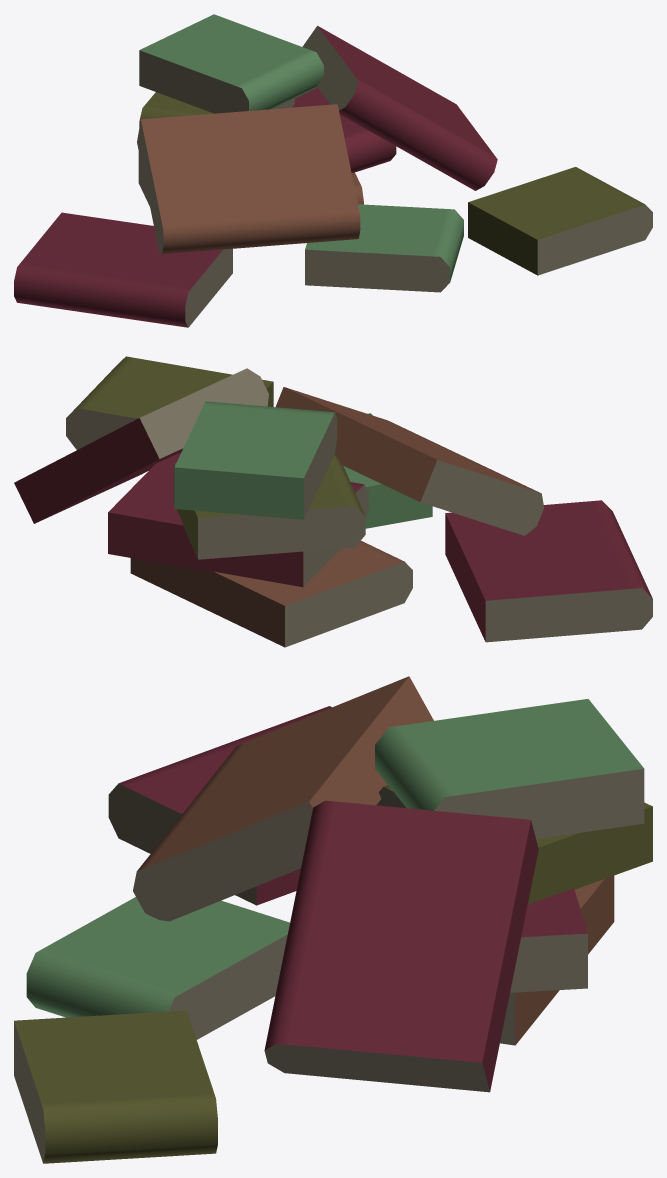
Rendered from book_pile_03.gltf.
The picture shows the model from 3 angles, top to bottom: view 1: azimuth 30°, elevation 25°; view 2: azimuth 150°, elevation 25°; view 3: azimuth 270°, elevation 25°; orthographic projection. The views are drawn at different scales.
Parts seen in each view (by area): view 1: Cube.017, Cube.013, Cube.010, Cube.018, Cube.014, Cube.011, Cube.015, Cube.016, Cube.012; view 2: Cube.013, Cube.018, Cube.012, Cube.017, Cube.014, Cube.015, Cube.016, Cube.010, Cube.011; view 3: Cube.014, Cube.017, Cube.018, Cube.010, Cube.011, Cube.013, Cube.016, Cube.015, Cube.012.
Part boxes in pixels (bbox=[...]): Cube.017: bbox=[137, 104, 360, 254]; Cube.013: bbox=[14, 212, 232, 327]; Cube.010: bbox=[468, 167, 652, 275]; Cube.018: bbox=[139, 14, 323, 113]; Cube.014: bbox=[302, 25, 497, 190]; Cube.011: bbox=[305, 204, 463, 292]; Cube.015: bbox=[292, 87, 396, 172]; Cube.016: bbox=[139, 92, 294, 127]; Cube.012: bbox=[138, 152, 363, 206]; Cube.013: bbox=[445, 500, 652, 642]; Cube.018: bbox=[174, 401, 337, 519]; Cube.012: bbox=[130, 540, 412, 647]; Cube.017: bbox=[275, 387, 543, 535]; Cube.014: bbox=[14, 368, 268, 523]; Cube.015: bbox=[108, 452, 368, 587]; Cube.016: bbox=[174, 455, 365, 559]; Cube.010: bbox=[66, 356, 273, 449]; Cube.011: bbox=[343, 413, 432, 528]; Cube.014: bbox=[264, 800, 538, 1092]; Cube.017: bbox=[133, 676, 433, 921]; Cube.018: bbox=[375, 699, 644, 838]; Cube.010: bbox=[14, 1010, 217, 1163]; Cube.011: bbox=[26, 897, 289, 1039]; Cube.013: bbox=[108, 706, 331, 905]; Cube.016: bbox=[376, 785, 652, 904]; Cube.015: bbox=[510, 888, 587, 992]; Cube.012: bbox=[500, 875, 614, 1045].
Size of the model in its own units: 1.66 by 0.4065 by 1.08.
